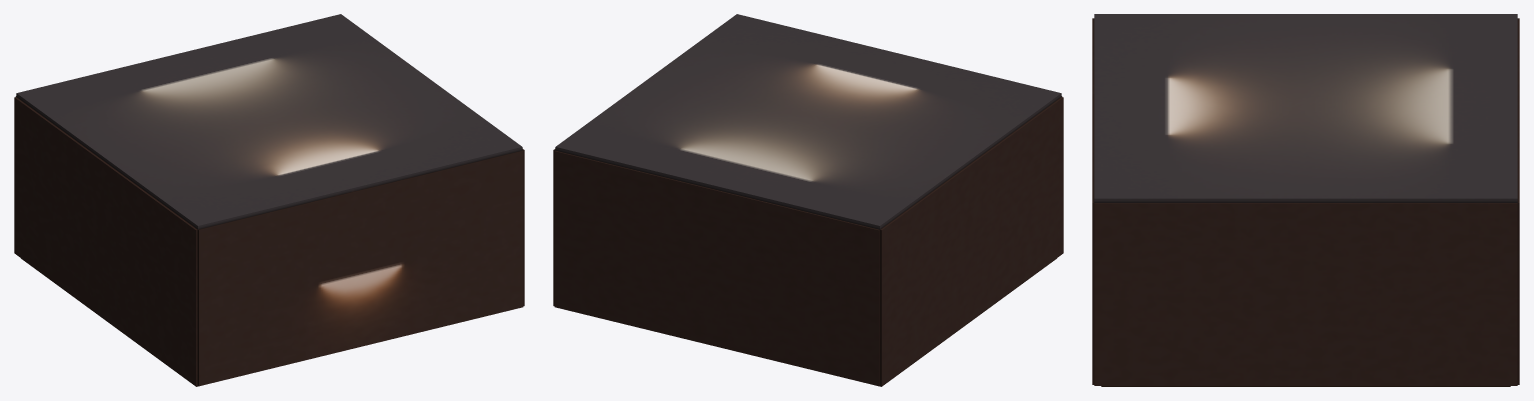
The picture shows the model from 3 angles, left to right: view 1: azimuth 30°, elevation 25°; view 2: azimuth 150°, elevation 25°; view 3: azimuth 270°, elevation 25°; orthographic projection. The views are drawn at different scales.
Parts seen in each view (by area): view 1: RetroToyRoom / baked game mesh; view 2: RetroToyRoom / baked game mesh; view 3: RetroToyRoom / baked game mesh.
Boxes of the visible parts, x1,y1,x2,y2 form: RetroToyRoom / baked game mesh: (14, 14, 524, 386); RetroToyRoom / baked game mesh: (553, 14, 1063, 386); RetroToyRoom / baked game mesh: (1092, 14, 1519, 386).
Size of the model in its own units: 6.48 by 3.08 by 6.26.
1 material, 1 textured.
